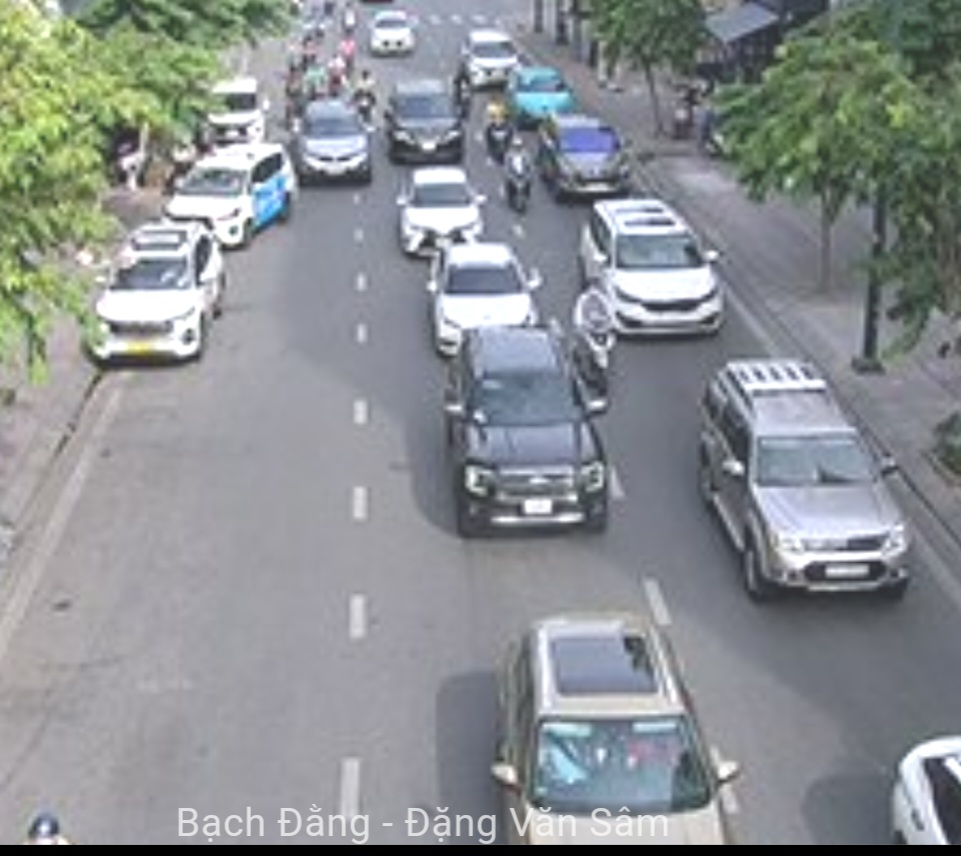car: (488, 615, 728, 851), (697, 354, 918, 608), (444, 336, 612, 554), (578, 198, 750, 359), (90, 218, 228, 374), (175, 136, 298, 251), (433, 251, 544, 340), (536, 112, 634, 200), (400, 159, 490, 254), (294, 99, 376, 188), (388, 78, 466, 165), (507, 68, 577, 126), (460, 25, 519, 85), (368, 10, 420, 60)
